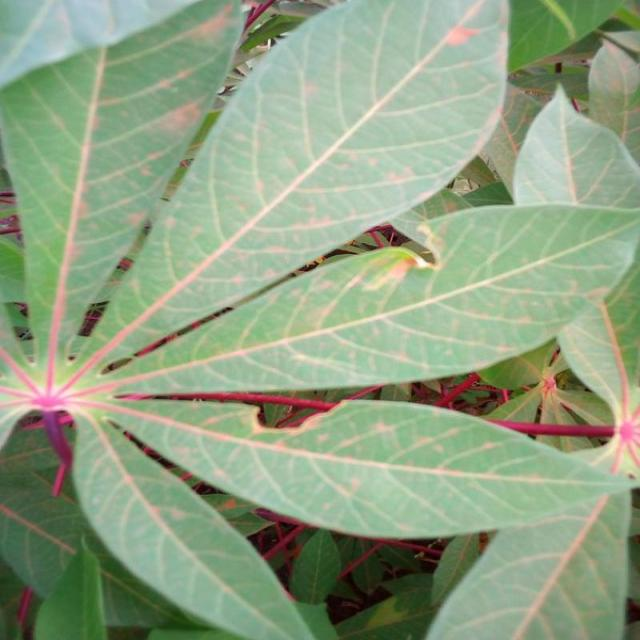cassava leaf: (0, 1, 638, 638), (72, 0, 511, 389), (0, 0, 245, 372)
